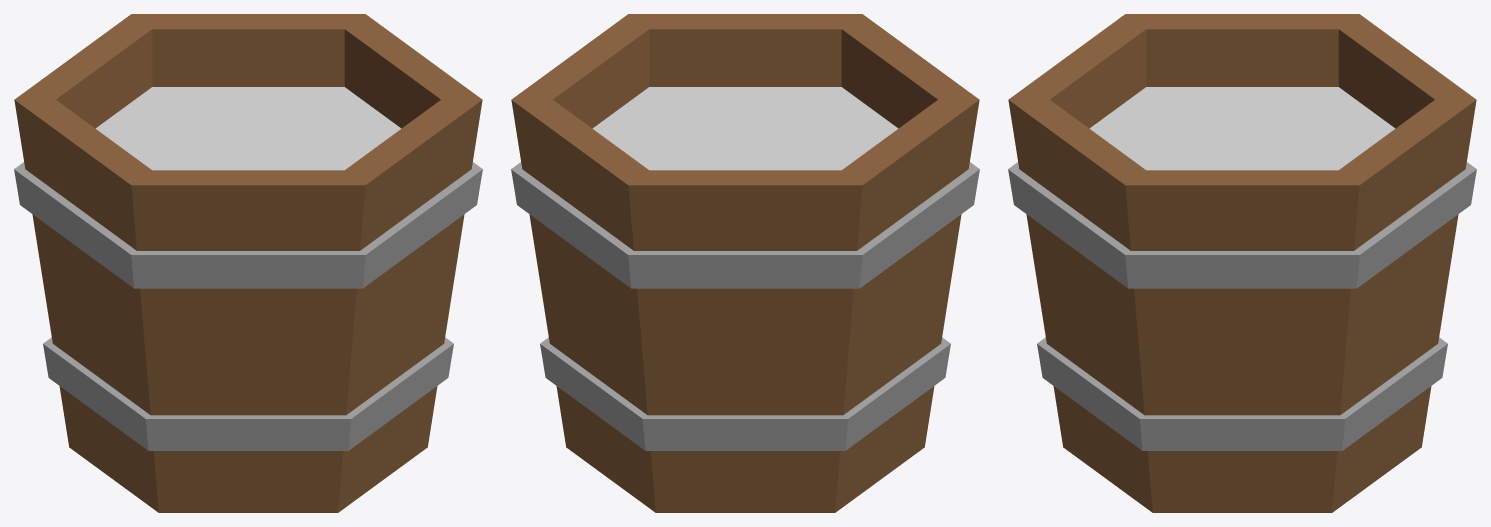
Rendered from Bucket_snow_mat.fbx.
3 renders of one model, left to right at view 1: azimuth 30°, elevation 25°; view 2: azimuth 150°, elevation 25°; view 3: azimuth 270°, elevation 25°, orthographic.
Parts seen in each view (by area): view 1: Bucket_snow_mat; view 2: Bucket_snow_mat; view 3: Bucket_snow_mat.
Boxes of the visible parts, x1,y1,x2,y2 form: Bucket_snow_mat: (14, 14, 482, 512); Bucket_snow_mat: (511, 14, 979, 512); Bucket_snow_mat: (1008, 14, 1476, 512).
Size of the model in its own units: 0.2687 by 0.2538 by 0.3103.
